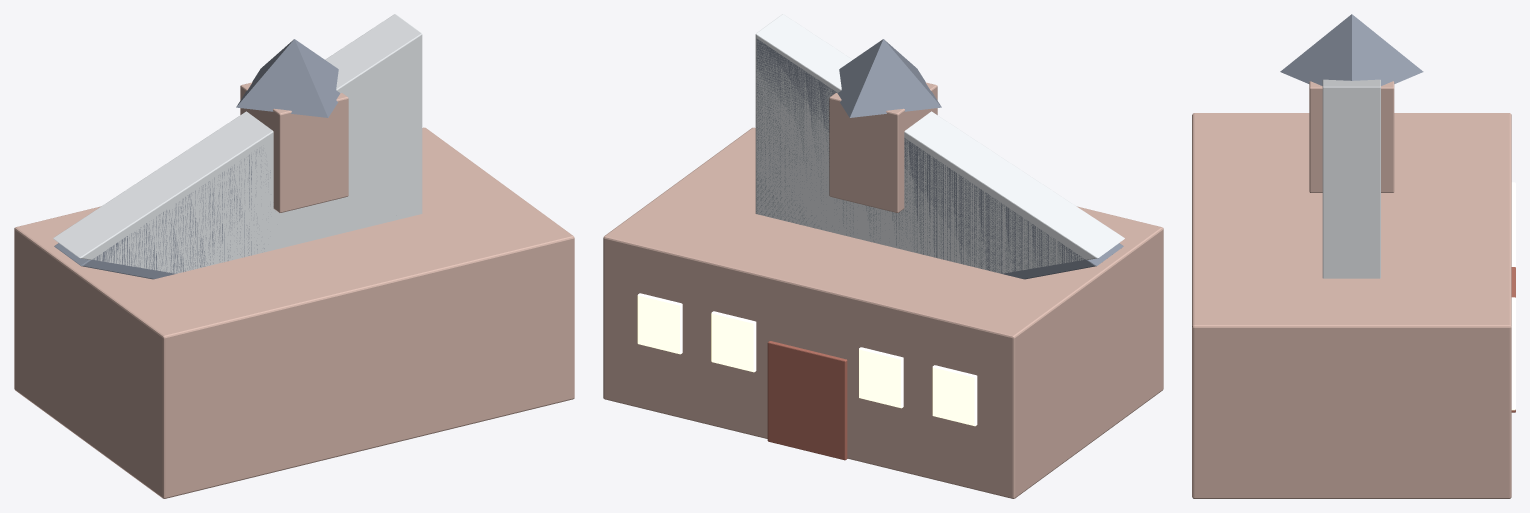
Rendered from school.glb.
The picture shows the model from 3 angles, left to right: view 1: azimuth 30°, elevation 25°; view 2: azimuth 150°, elevation 25°; view 3: azimuth 270°, elevation 25°; orthographic projection. The views are drawn at different scales.
Parts seen in each view (by area): view 1: walls, snowcap, tower, towerRoof, roof; view 2: walls, snowcap, roof, door, tower, towerRoof, win, win.002, win.003, win.001; view 3: walls, snowcap, towerRoof, tower, win.003.
Boxes of the visible parts, left/top/right/bottom form: walls: left=14, top=127, right=574, bottom=498; snowcap: left=53, top=14, right=422, bottom=273; tower: left=240, top=82, right=348, bottom=212; towerRoof: left=236, top=39, right=340, bottom=117; roof: left=54, top=149, right=270, bottom=279; walls: left=603, top=127, right=1163, bottom=498; snowcap: left=755, top=14, right=1124, bottom=273; roof: left=756, top=39, right=1123, bottom=279; door: left=767, top=341, right=847, bottom=460; tower: left=829, top=82, right=937, bottom=212; towerRoof: left=837, top=39, right=941, bottom=117; win: left=932, top=365, right=977, bottom=426; win.002: left=711, top=311, right=756, bottom=372; win.003: left=637, top=293, right=682, bottom=354; win.001: left=859, top=347, right=903, bottom=408; walls: left=1192, top=113, right=1511, bottom=498; snowcap: left=1322, top=79, right=1380, bottom=278; towerRoof: left=1280, top=14, right=1423, bottom=85; tower: left=1309, top=81, right=1394, bottom=192; win.003: left=1511, top=335, right=1515, bottom=410.
Bounding box in the file's own units: 10.02 × 7.85 × 6.08.
